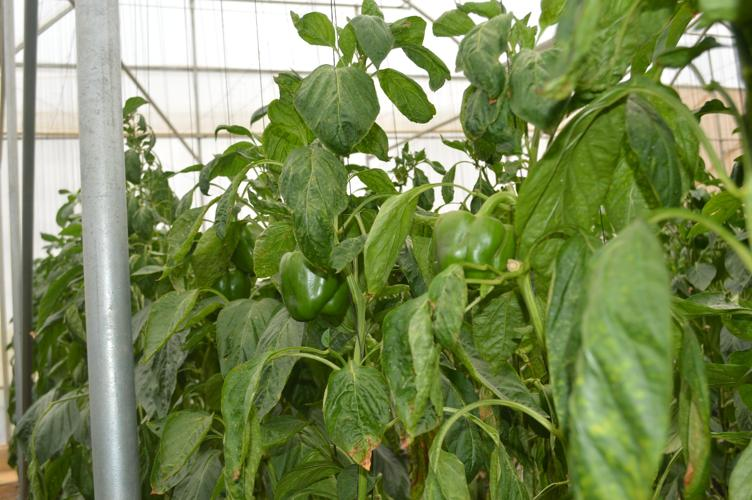BellPepper: (425, 210, 517, 280), (273, 251, 354, 320)
